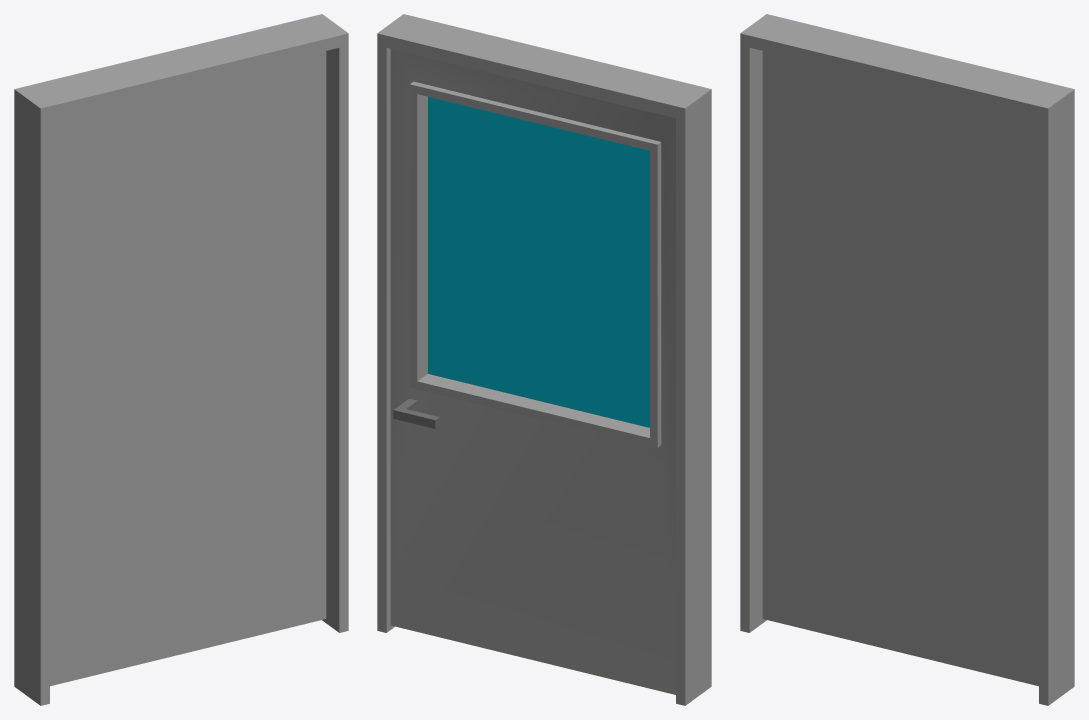
Rendered from SM_Door.fbx.
3 views of the same model, side by side, from view 1: azimuth 30°, elevation 25°; view 2: azimuth 150°, elevation 25°; view 3: azimuth 330°, elevation 25° (orthographic).
Parts seen in each view (by area): view 1: door_2X3, doorFrame_2x1; view 2: door_2X3, doorFrame_2x1; view 3: door_2X3, doorFrame_2x1.
Boxes of the visible parts, left/top/right/bottom form: door_2X3: left=50, top=51, right=326, bottom=686; doorFrame_2x1: left=14, top=14, right=348, bottom=705; door_2X3: left=390, top=49, right=675, bottom=694; doorFrame_2x1: left=377, top=14, right=711, bottom=705; door_2X3: left=762, top=51, right=1038, bottom=686; doorFrame_2x1: left=740, top=14, right=1074, bottom=705.
Bounding box in the file's own units: 84.47 × 157 × 17.1.
